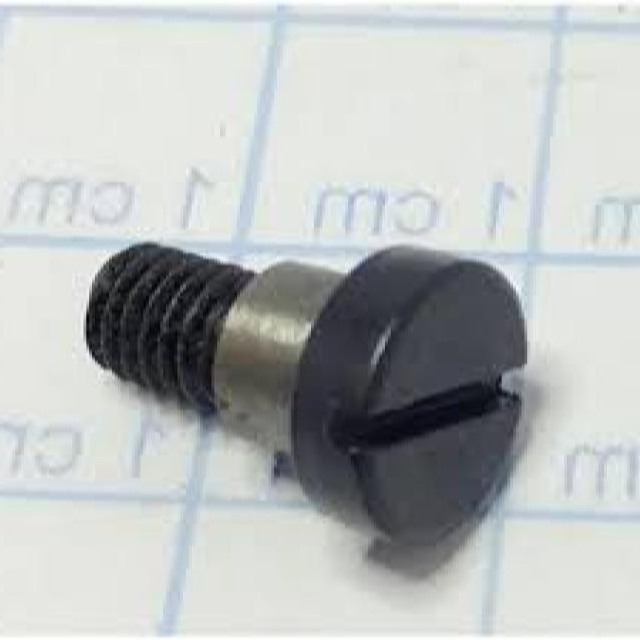duz: (293, 243, 529, 550)
